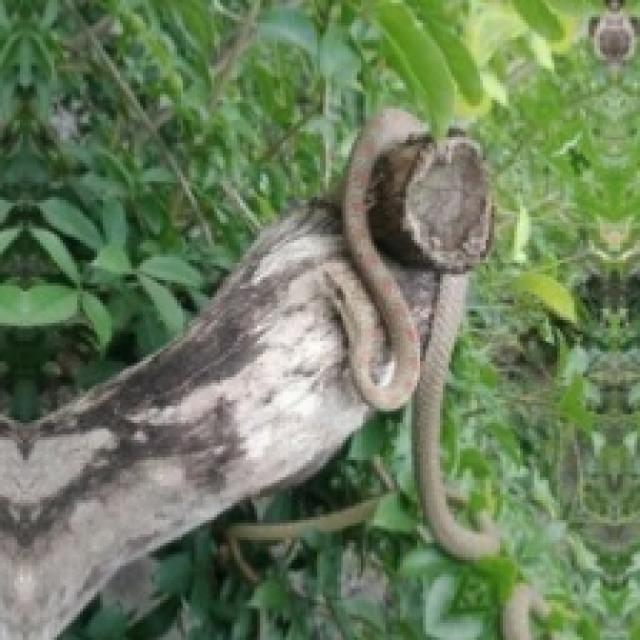paradise tree snake: (323, 109, 497, 560)
